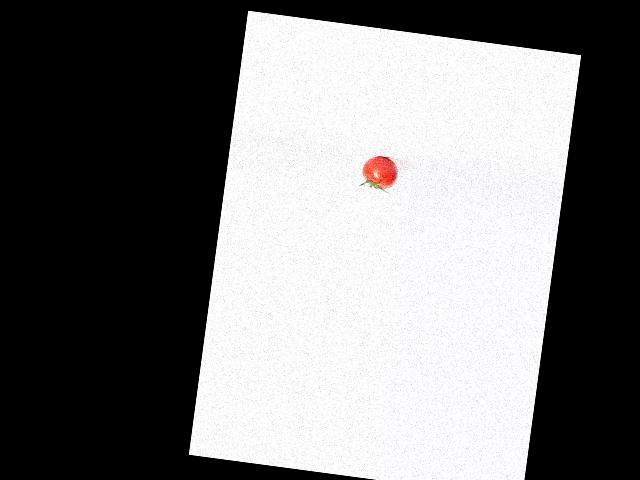tomato: (360, 154, 400, 190)
